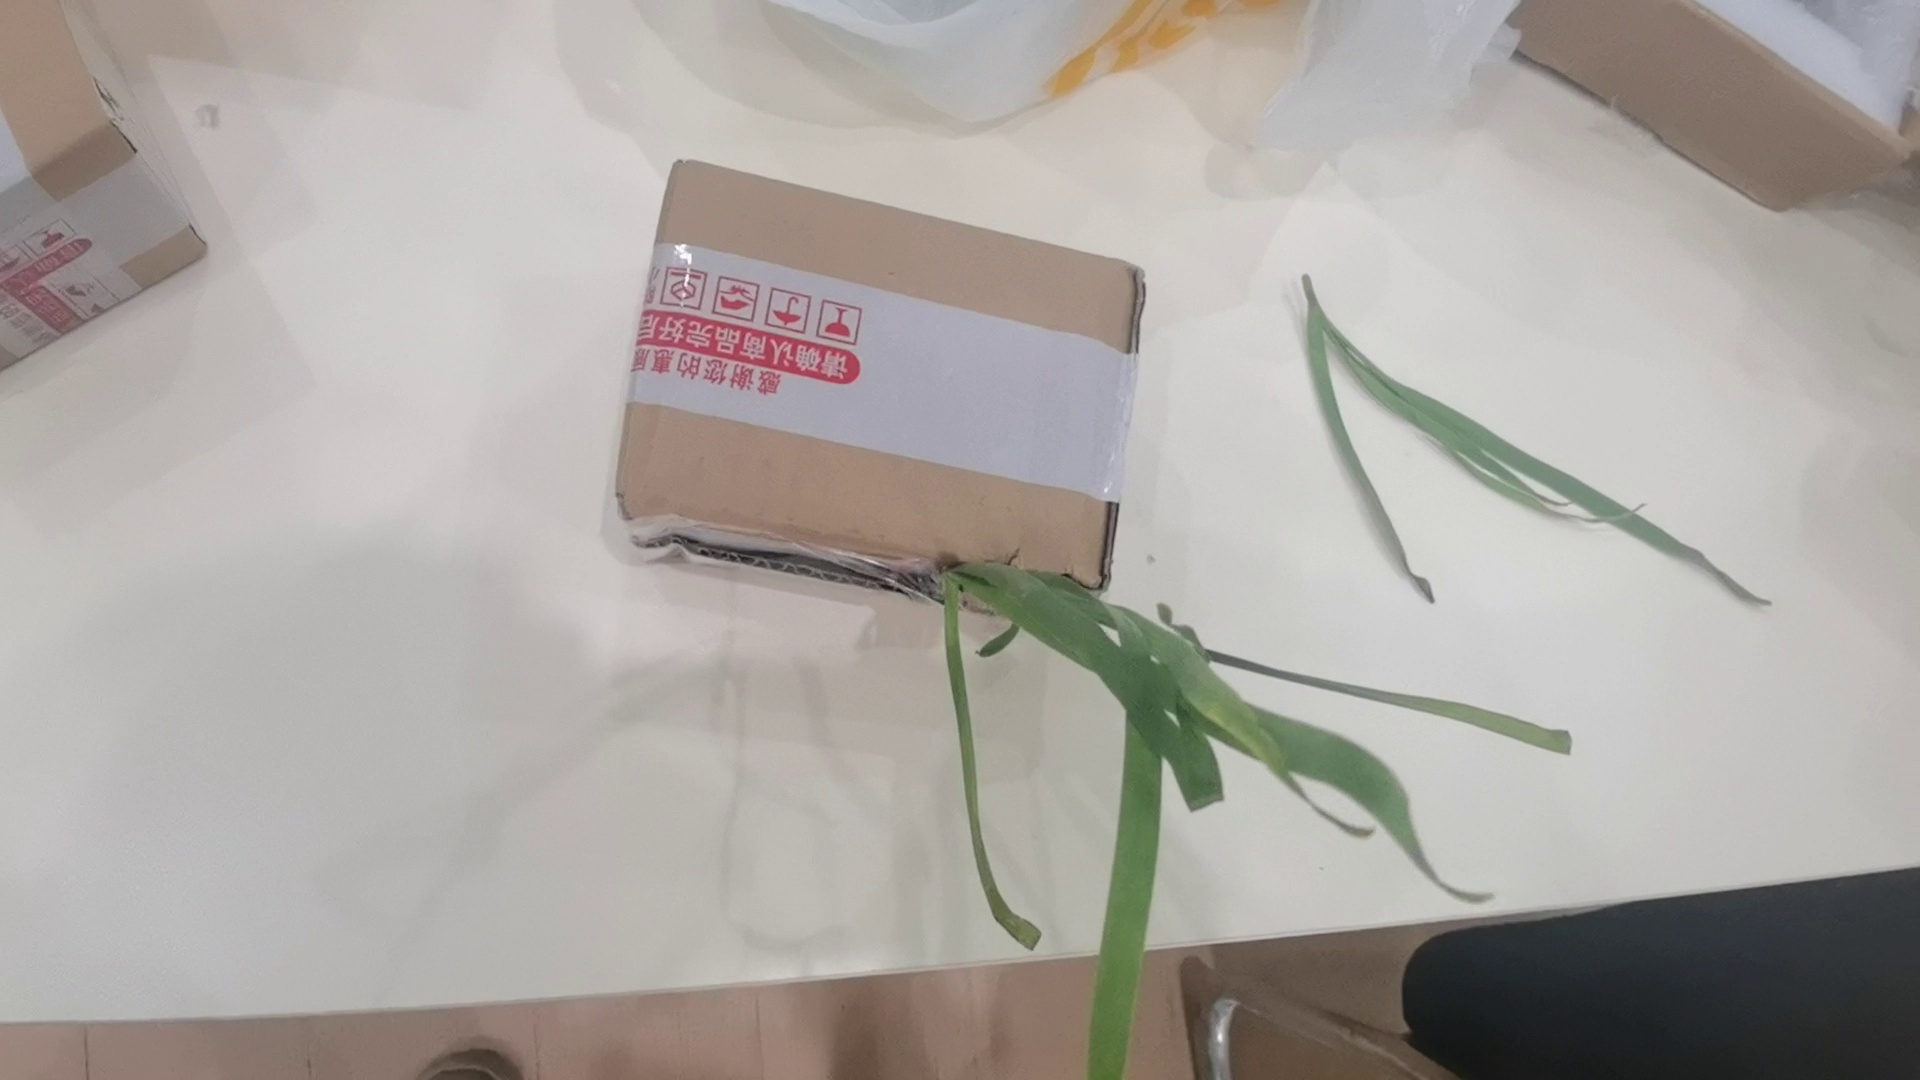chives: (891, 542, 1636, 1080), (1294, 269, 1785, 615)
